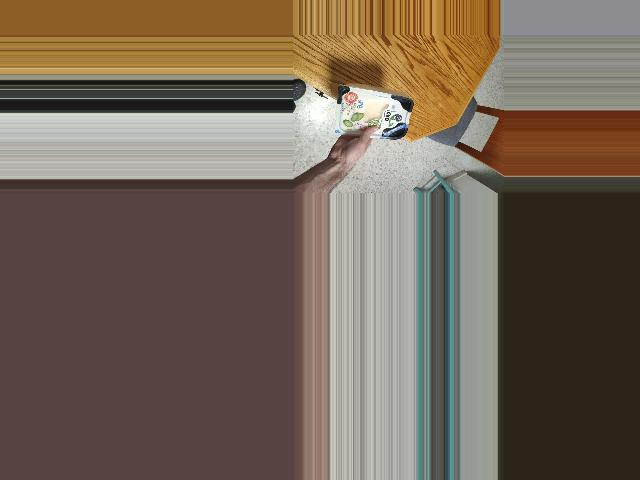cheese: (330, 80, 412, 153)
